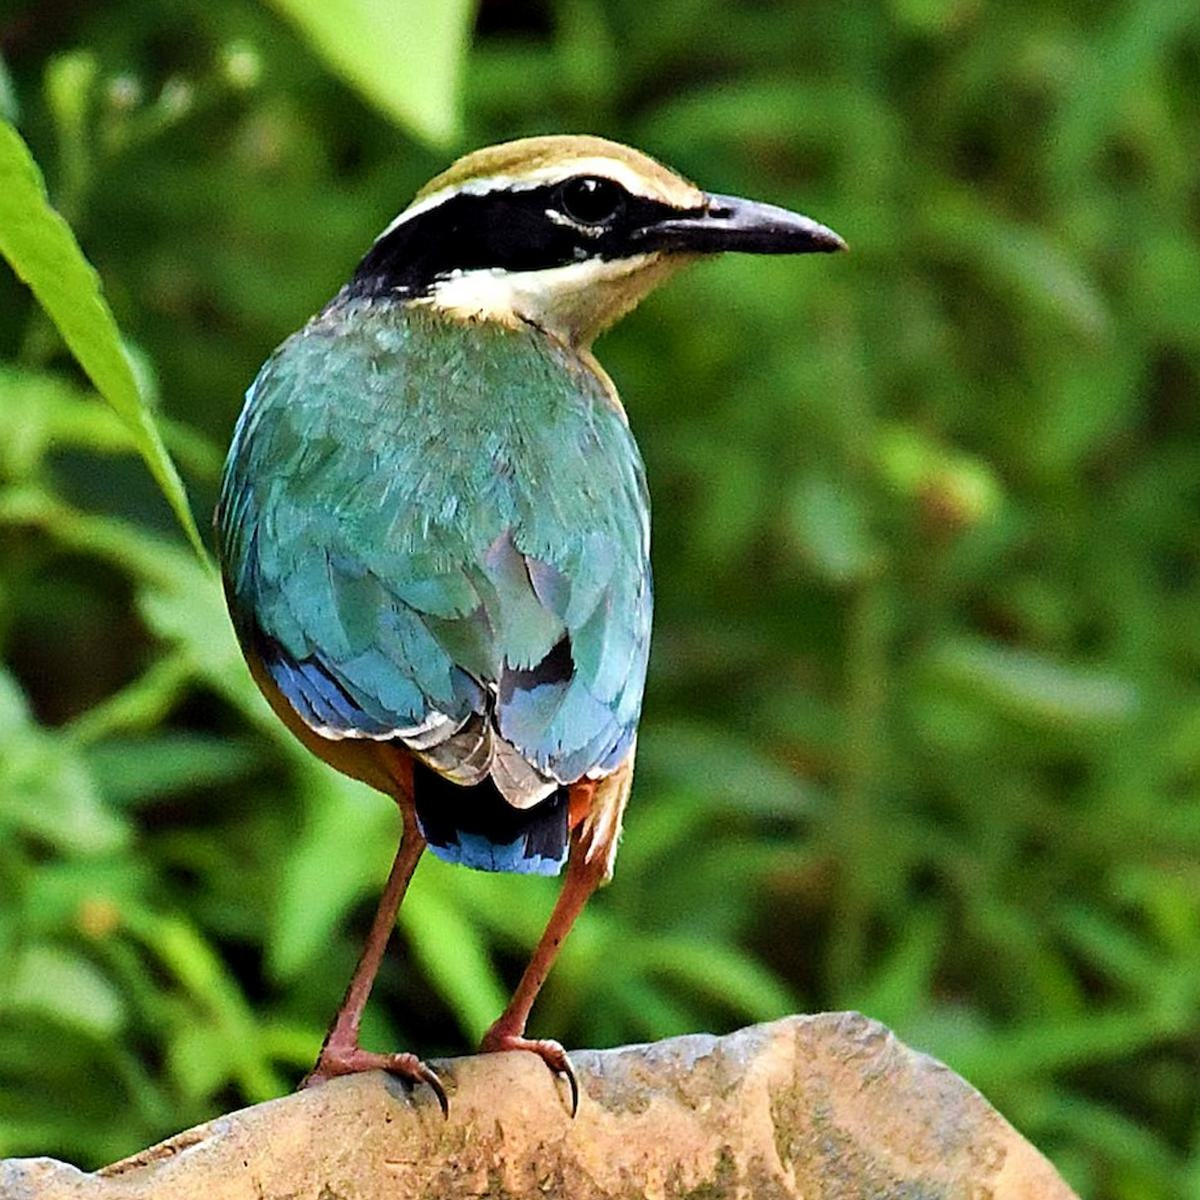pitta: (162, 73, 941, 1070)
